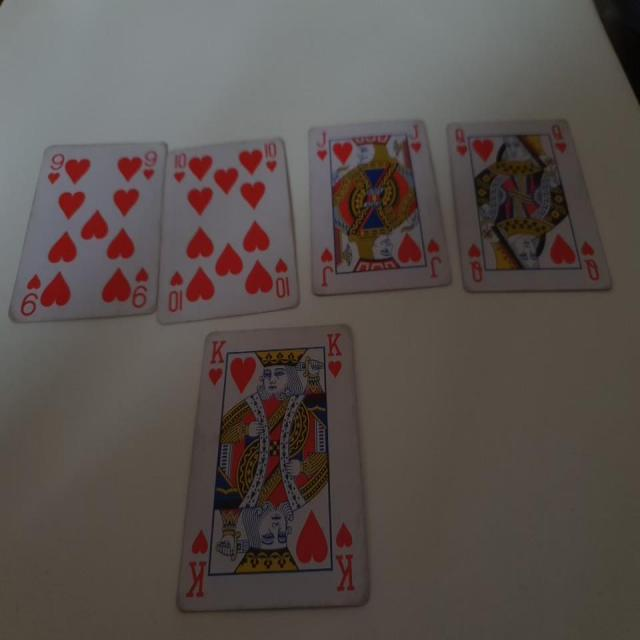10 Hearts: (163, 129, 307, 326)
9 Hearts: (11, 138, 166, 325)
J Hearts: (304, 109, 454, 298)
K Hearts: (174, 323, 376, 609)
Q Hearts: (445, 105, 620, 302)
